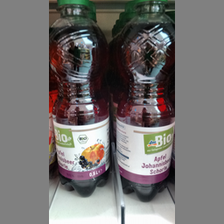soda: (48, 1, 113, 197), (116, 1, 175, 203)
